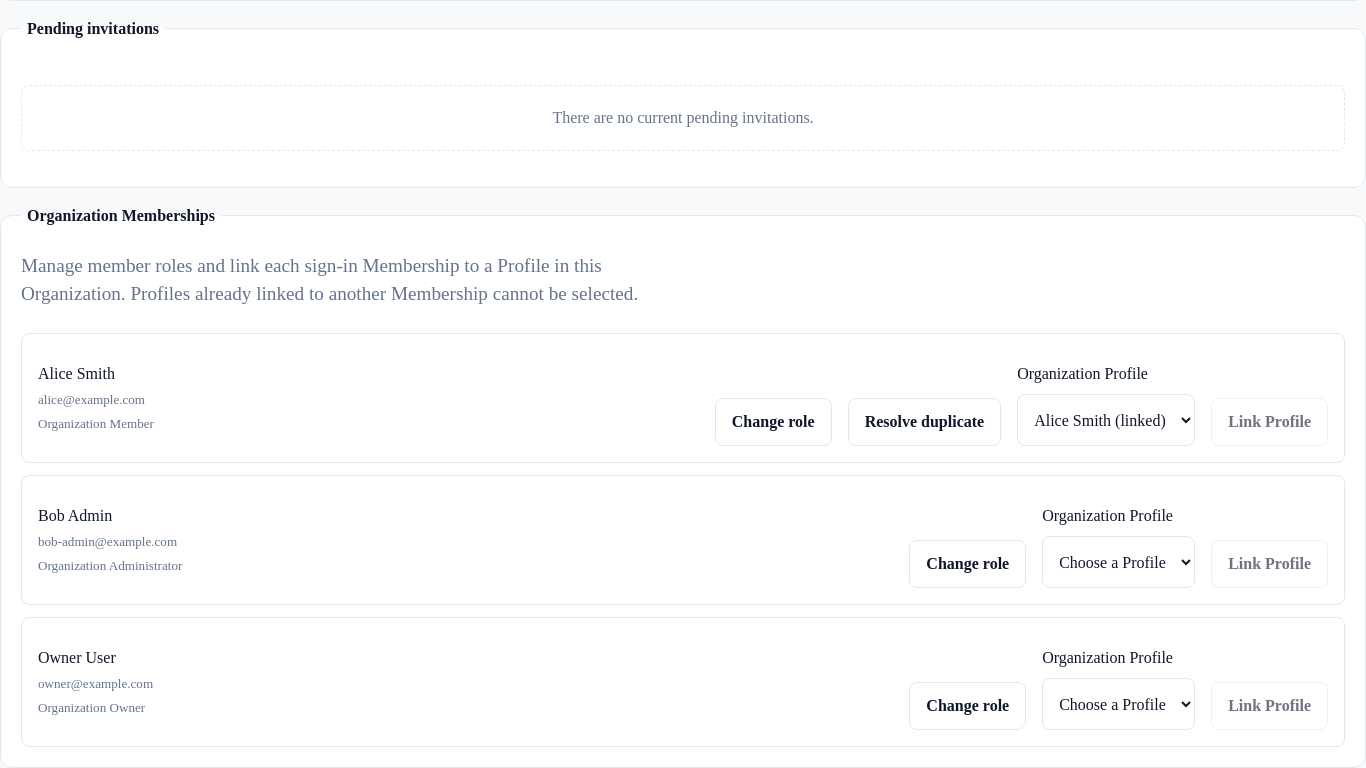
Test: OrganizationInvitations membership role management › preserves draft on error and displays error alert
(page scrolled)
Click the button with aria-label "Change role for Alice Smith": (773, 422) [715,398,832,446]
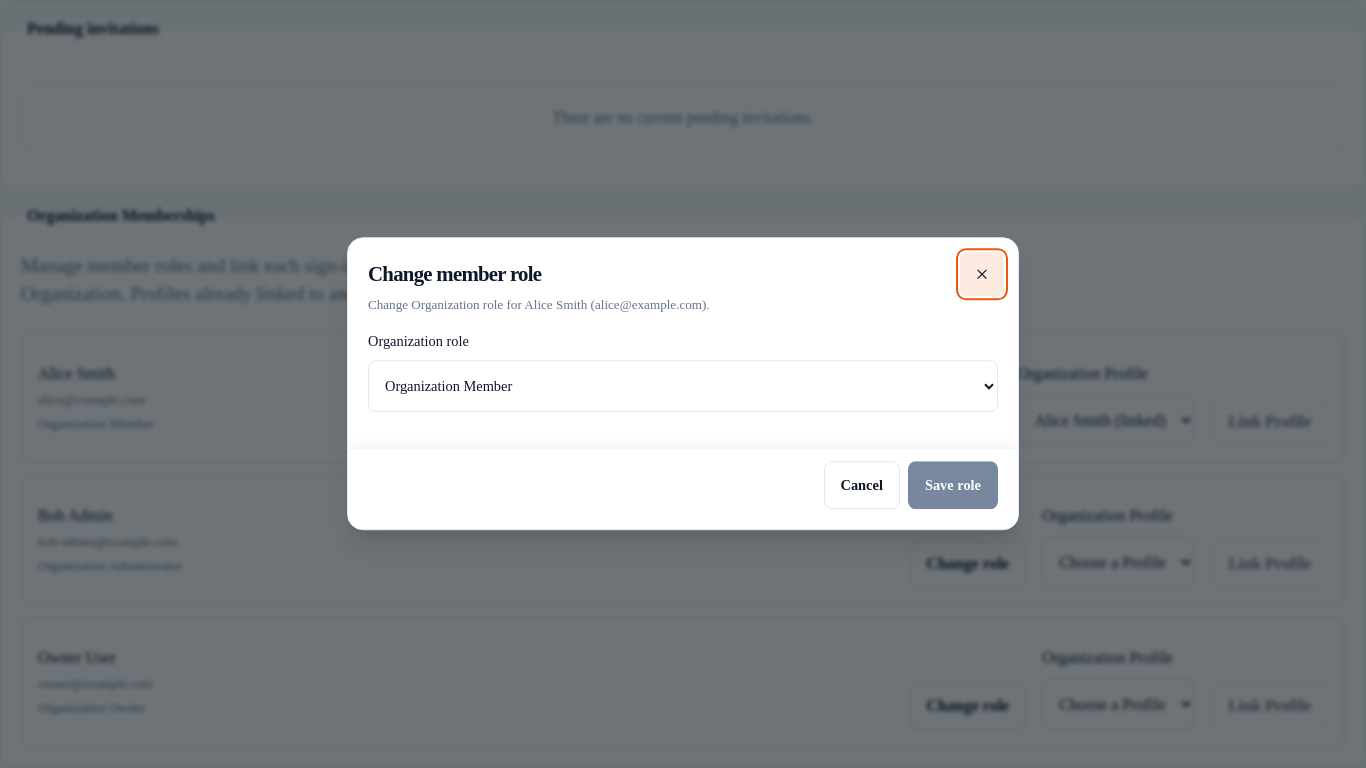
Select "Organization Administrator" in the dropdown labelled "Organization role": (683, 387) [368,361,998,413]
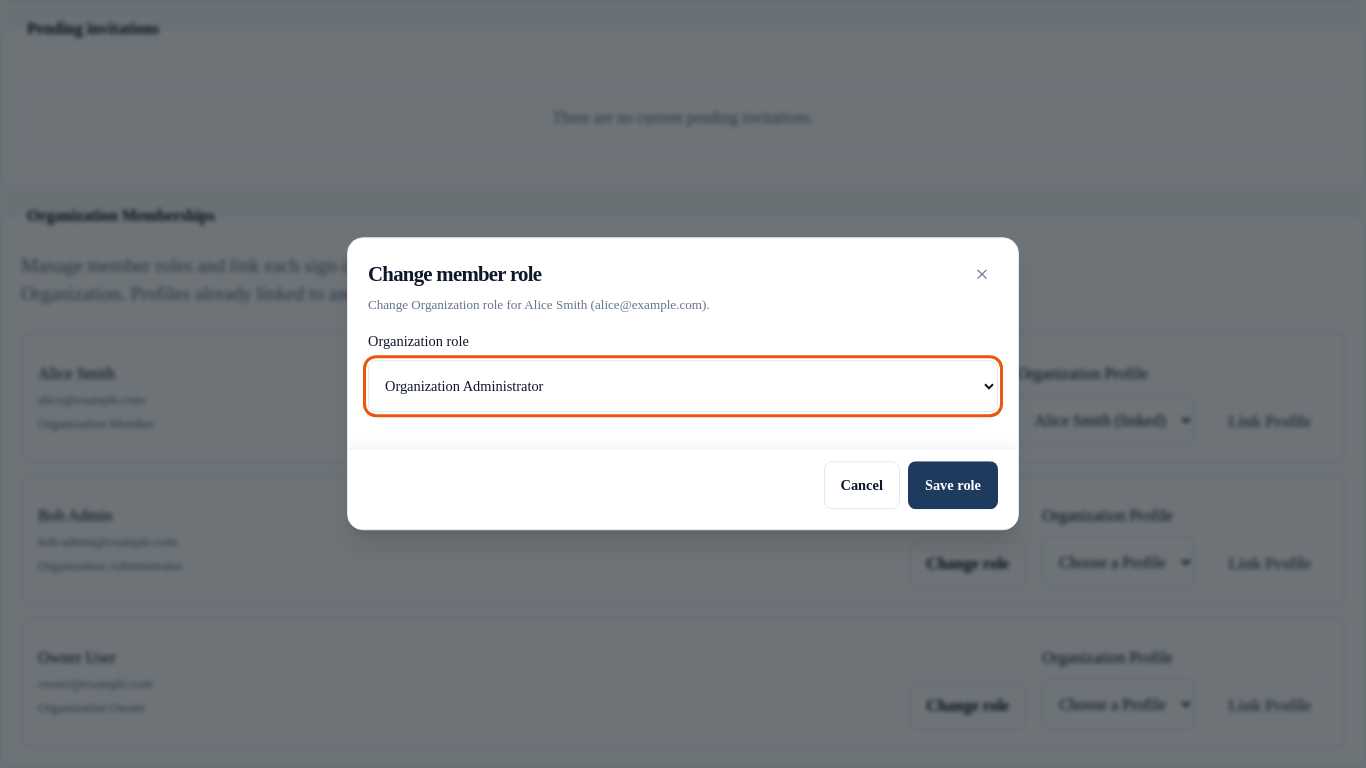
Click the button "Save role": (953, 486) [908,462,998,510]
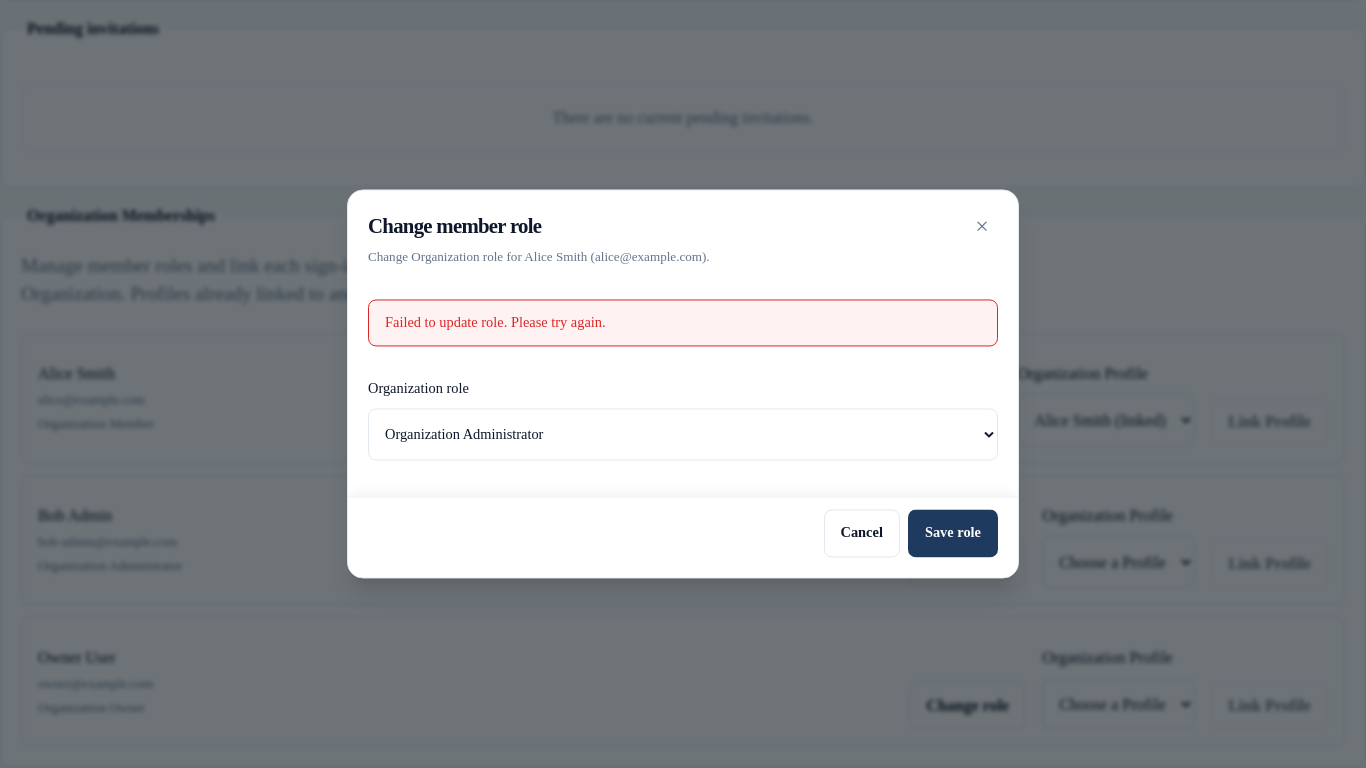
Now the message reads "Failed to update role. Please try again.", box [385,314,606,330]
